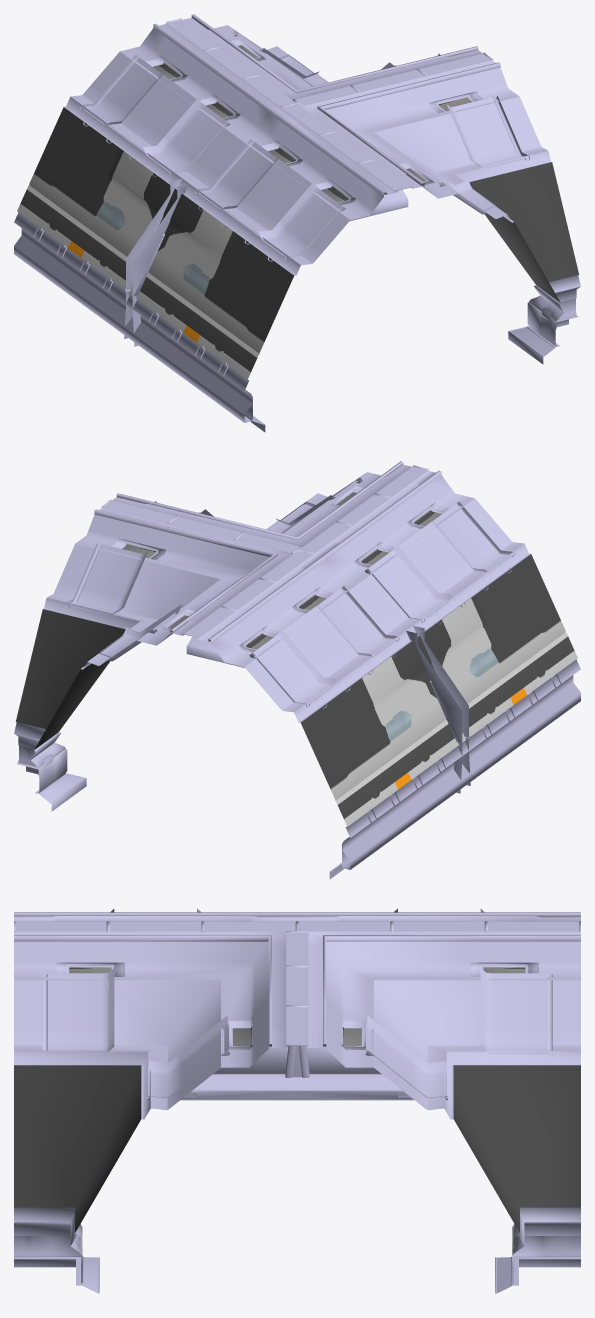
The model's file is HallT.fbx.
3 renders of one model, top to bottom at view 1: azimuth 30°, elevation 25°; view 2: azimuth 150°, elevation 25°; view 3: azimuth 270°, elevation 25°, orthographic. The views are drawn at different scales.
Parts seen in each view (by area): view 1: HallT; view 2: HallT; view 3: HallT.
Part boxes in pixels (left/top/right/bottom): HallT: left=14, top=14, right=580, bottom=432; HallT: left=14, top=461, right=580, bottom=879; HallT: left=14, top=908, right=580, bottom=1293.
Size of the model in its own units: 9.03 by 5.04 by 10.
